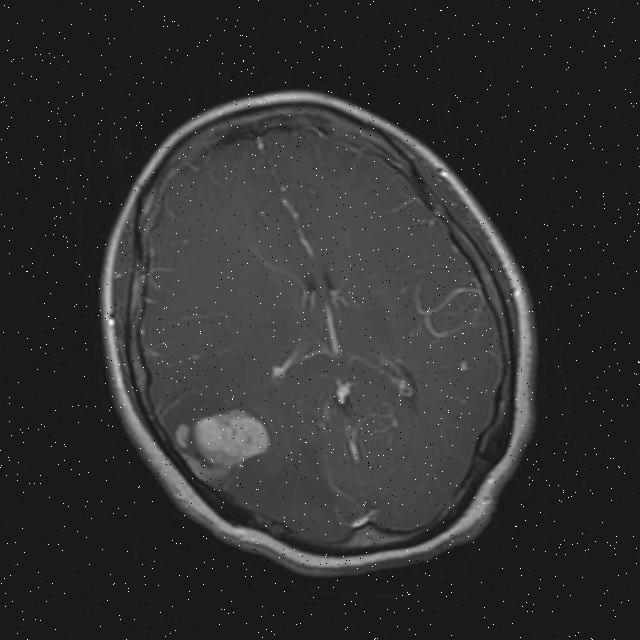Glioma: (171, 397, 278, 494)
